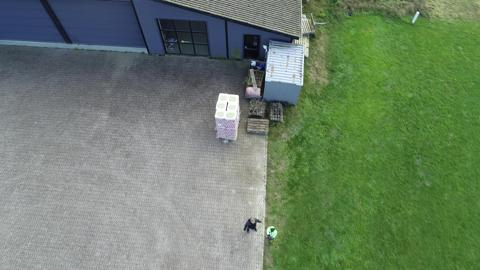RockwoolPallet: (214, 92, 241, 141)
